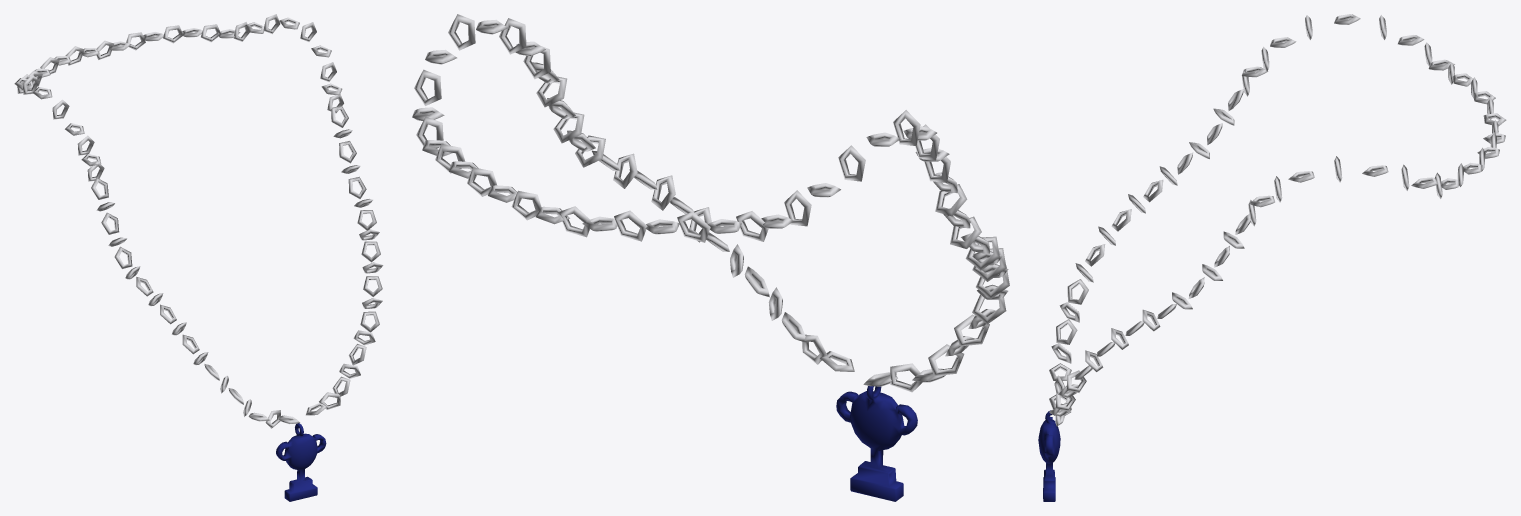
Rendered from acc_chain_trophy.glb.
The picture shows the model from 3 angles, left to right: view 1: azimuth 30°, elevation 25°; view 2: azimuth 150°, elevation 25°; view 3: azimuth 270°, elevation 25°; orthographic projection. The views are drawn at different scales.
Visible parts, largest first — view 1: acc_chain_trophy_0_metal, acc_chain_trophy_1_secondary; view 2: acc_chain_trophy_0_metal, acc_chain_trophy_1_secondary; view 3: acc_chain_trophy_0_metal, acc_chain_trophy_1_secondary.
Boxes of the visible parts, bbox=[...] form: acc_chain_trophy_0_metal: bbox=[14, 14, 383, 428]; acc_chain_trophy_1_secondary: bbox=[276, 423, 326, 501]; acc_chain_trophy_0_metal: bbox=[412, 14, 1009, 392]; acc_chain_trophy_1_secondary: bbox=[836, 386, 917, 501]; acc_chain_trophy_0_metal: bbox=[1049, 14, 1506, 426]; acc_chain_trophy_1_secondary: bbox=[1038, 410, 1060, 501].
Size of the model in its own units: 0.1856 by 0.2241 by 0.2313.
